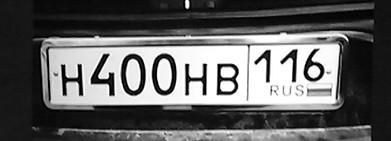license-plateSW: (41, 42, 341, 105)
